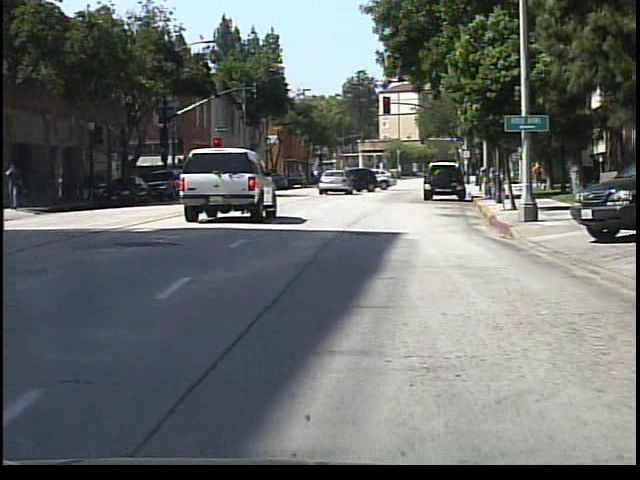person: (11, 163, 29, 212), (321, 160, 339, 193), (531, 158, 547, 192), (475, 155, 490, 184)
